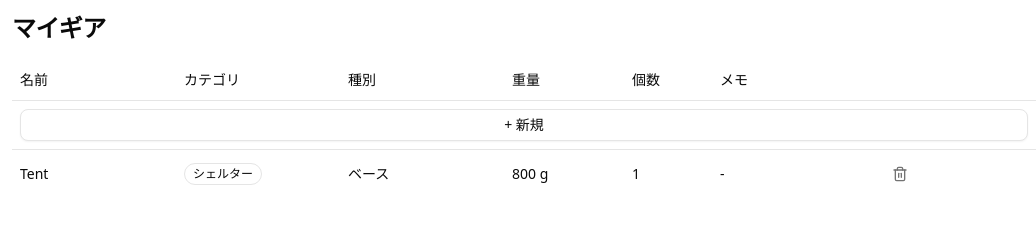
Scenario: GearPage › keeps edit mode and shows error when auto-save fails
Step 1. Click the button "Tent" → x=34, y=173, box [12, 149, 176, 198]
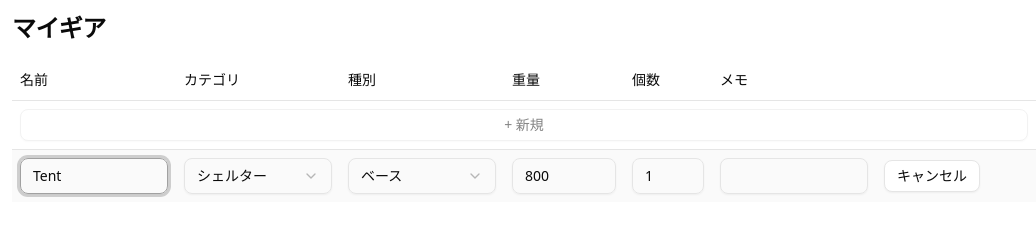
Step 2. Replace the text in the field named "編集名前" with "Tent 2" → x=94, y=176, box [20, 158, 168, 194]
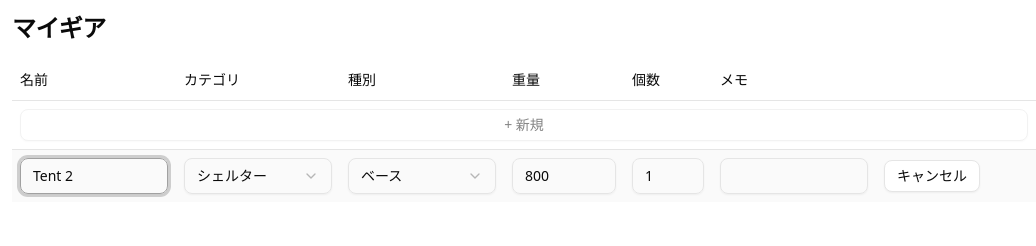
Step 3. Click the heading "マイギア" → x=59, y=28, box [12, 11, 106, 44]
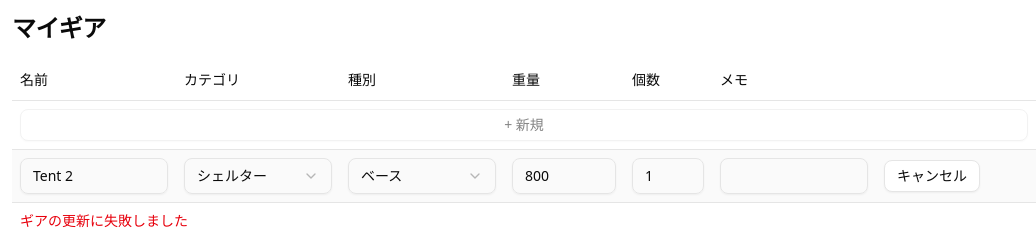
expect the text "ギアの更新に失敗しました" is shown: met, box [20, 210, 188, 230]
